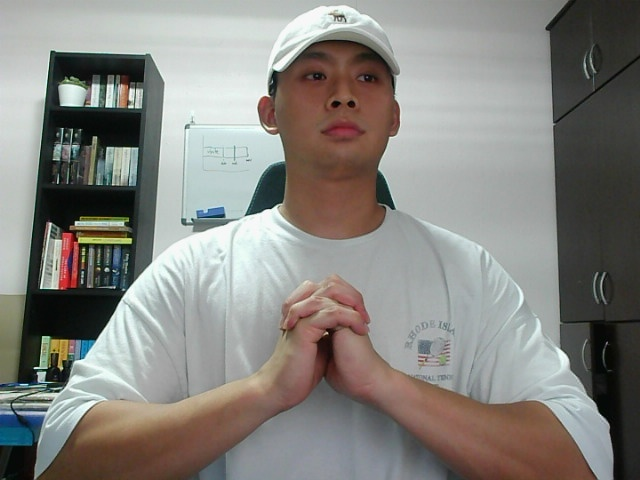Serpent: (245, 256, 397, 416)
